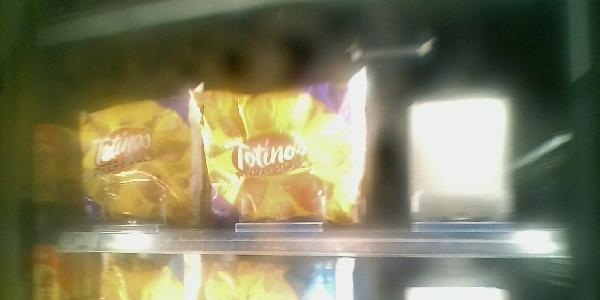icecream: (200, 79, 366, 224), (73, 90, 199, 223)
